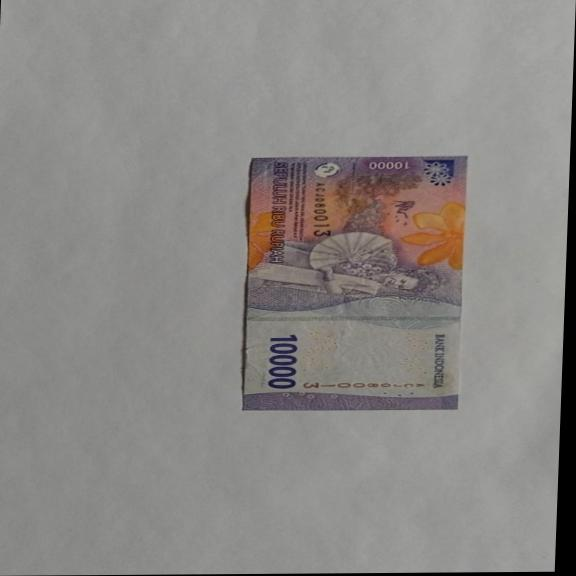Kertas: (238, 155, 469, 412), (266, 333, 302, 389)
